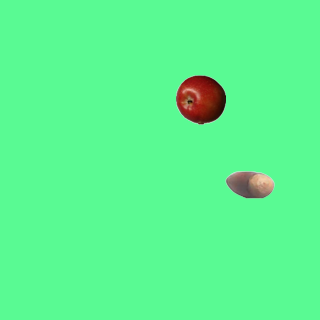Apple Braeburn: (175, 74, 225, 124)
Hazelnut: (224, 159, 274, 209)
